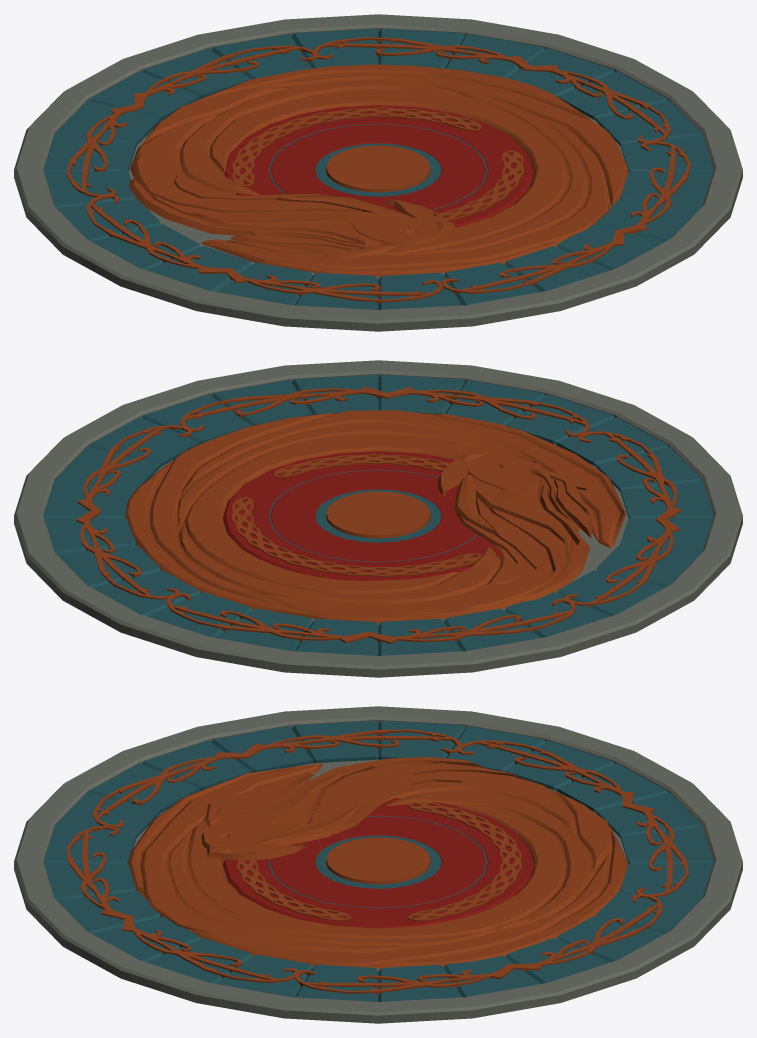
The model's file is floor test.fbx.
The picture shows the model from 3 angles, top to bottom: view 1: azimuth 30°, elevation 25°; view 2: azimuth 150°, elevation 25°; view 3: azimuth 270°, elevation 25°; orthographic projection.
Visible parts, largest first — view 1: Cylinder001; view 2: Cylinder001; view 3: Cylinder001.
Boxes of the visible parts, bbox=[...] form: Cylinder001: bbox=[14, 14, 742, 331]; Cylinder001: bbox=[14, 360, 742, 677]; Cylinder001: bbox=[14, 706, 742, 1023].
Size of the model in its own units: 1428 by 40.28 by 1428.
